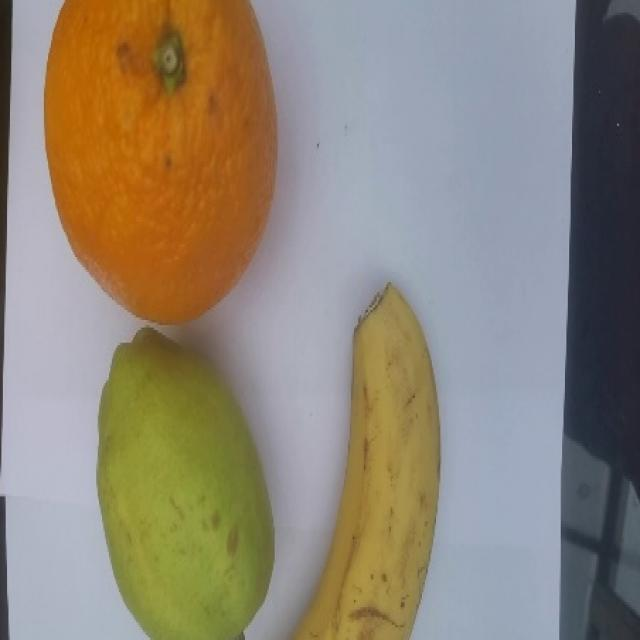Banana: (292, 287, 446, 640)
Orange: (40, 0, 285, 328)
